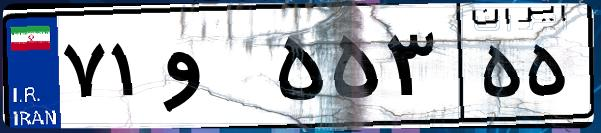1: (110, 28, 158, 98)
3: (385, 28, 445, 110)
5: (270, 28, 330, 110), (330, 28, 385, 110), (475, 38, 525, 113), (525, 38, 570, 115)
7: (57, 26, 110, 100)
و: (158, 20, 270, 120)
